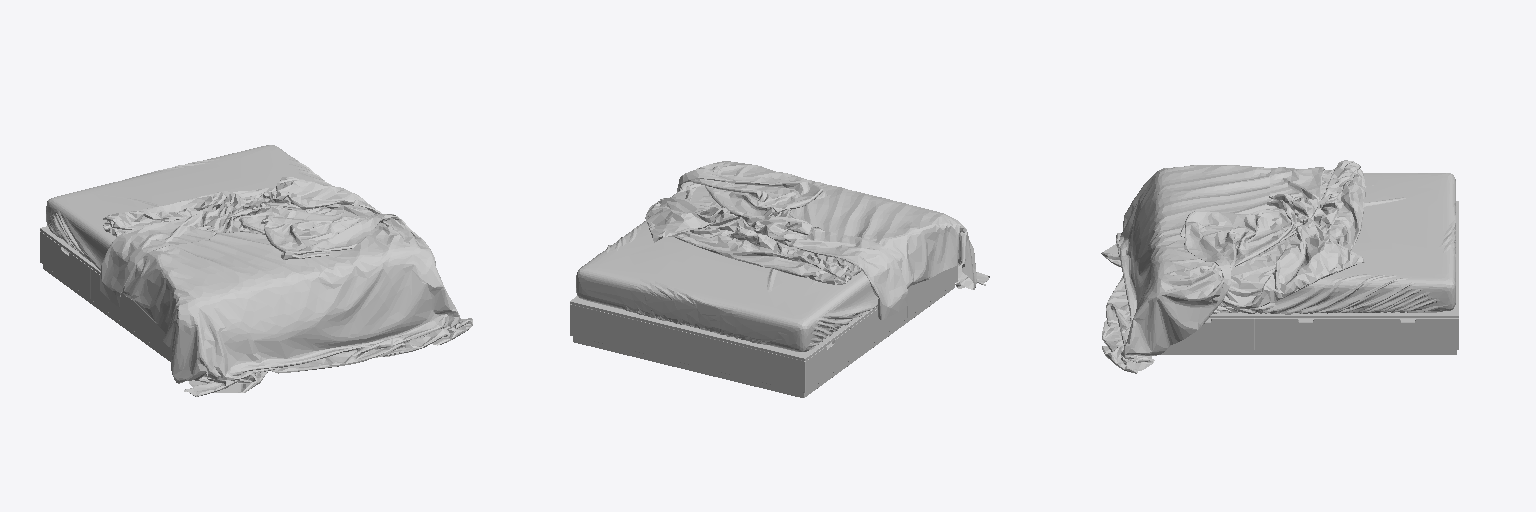
The model's file is BedNoPillows - Copy.obj.
The picture shows the model from 3 angles: view 1: azimuth 30°, elevation 25°; view 2: azimuth 150°, elevation 25°; view 3: azimuth 270°, elevation 25°; orthographic projection.
Visible parts, largest first — view 1: Nordli_Cover_Low_BedNordli_Cover_Low, Nordli_Sheet_Low_BedNordli_Sheets_Low, Nordli_Comforter_Low_BedNordli_Comforter_Low_001, Nordli_Frame_Low_Cube_002; view 2: Nordli_Sheet_Low_BedNordli_Sheets_Low, Nordli_Cover_Low_BedNordli_Cover_Low, Nordli_Frame_Low_Cube_002, Nordli_Comforter_Low_BedNordli_Comforter_Low_001; view 3: Nordli_Cover_Low_BedNordli_Cover_Low, Nordli_Sheet_Low_BedNordli_Sheets_Low, Nordli_Frame_Low_Cube_002, Nordli_Comforter_Low_BedNordli_Comforter_Low_001.
Part boxes in pixels (left/top/right/bottom): Nordli_Cover_Low_BedNordli_Cover_Low: left=100, top=206, right=472, bottom=396; Nordli_Sheet_Low_BedNordli_Sheets_Low: left=46, top=145, right=330, bottom=270; Nordli_Comforter_Low_BedNordli_Comforter_Low_001: left=103, top=177, right=381, bottom=236; Nordli_Frame_Low_Cube_002: left=40, top=226, right=172, bottom=361; Nordli_Sheet_Low_BedNordli_Sheets_Low: left=576, top=221, right=878, bottom=351; Nordli_Cover_Low_BedNordli_Cover_Low: left=677, top=161, right=989, bottom=319; Nordli_Frame_Low_Cube_002: left=570, top=265, right=957, bottom=397; Nordli_Comforter_Low_BedNordli_Comforter_Low_001: left=645, top=182, right=861, bottom=284; Nordli_Cover_Low_BedNordli_Cover_Low: left=1101, top=165, right=1324, bottom=373; Nordli_Sheet_Low_BedNordli_Sheets_Low: left=1213, top=173, right=1455, bottom=314; Nordli_Frame_Low_Cube_002: left=1161, top=201, right=1458, bottom=354; Nordli_Comforter_Low_BedNordli_Comforter_Low_001: left=1219, top=160, right=1365, bottom=308.
Bounding box in the file's own units: 2.22 × 0.6962 × 2.36.